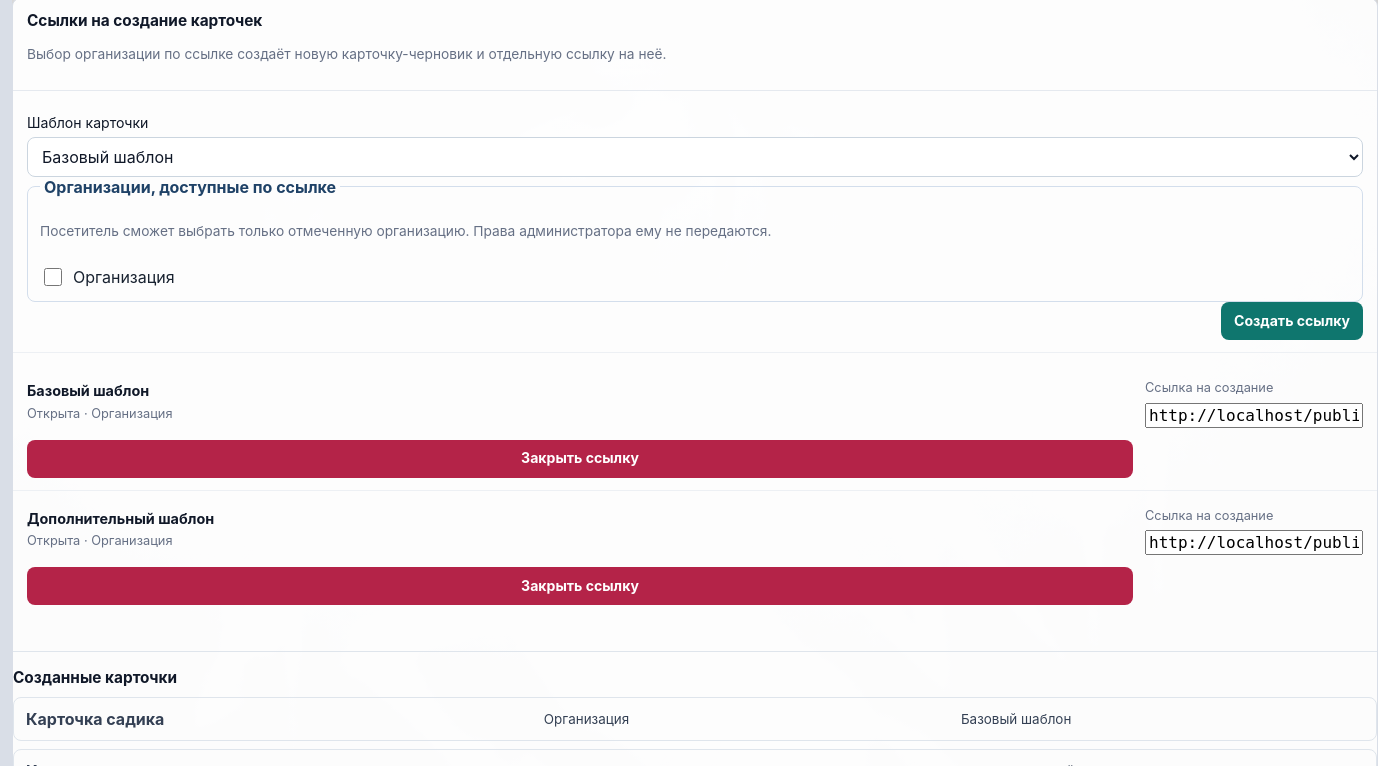
it: CardCreationLinksPanel › copies a creation URL when its text is clicked
This screenshot has width=1378, height=766.
Click the 1st field labelled "Ссылка на создание": coordinates (1254, 415) [1145, 403, 1363, 428]
(page scrolled)
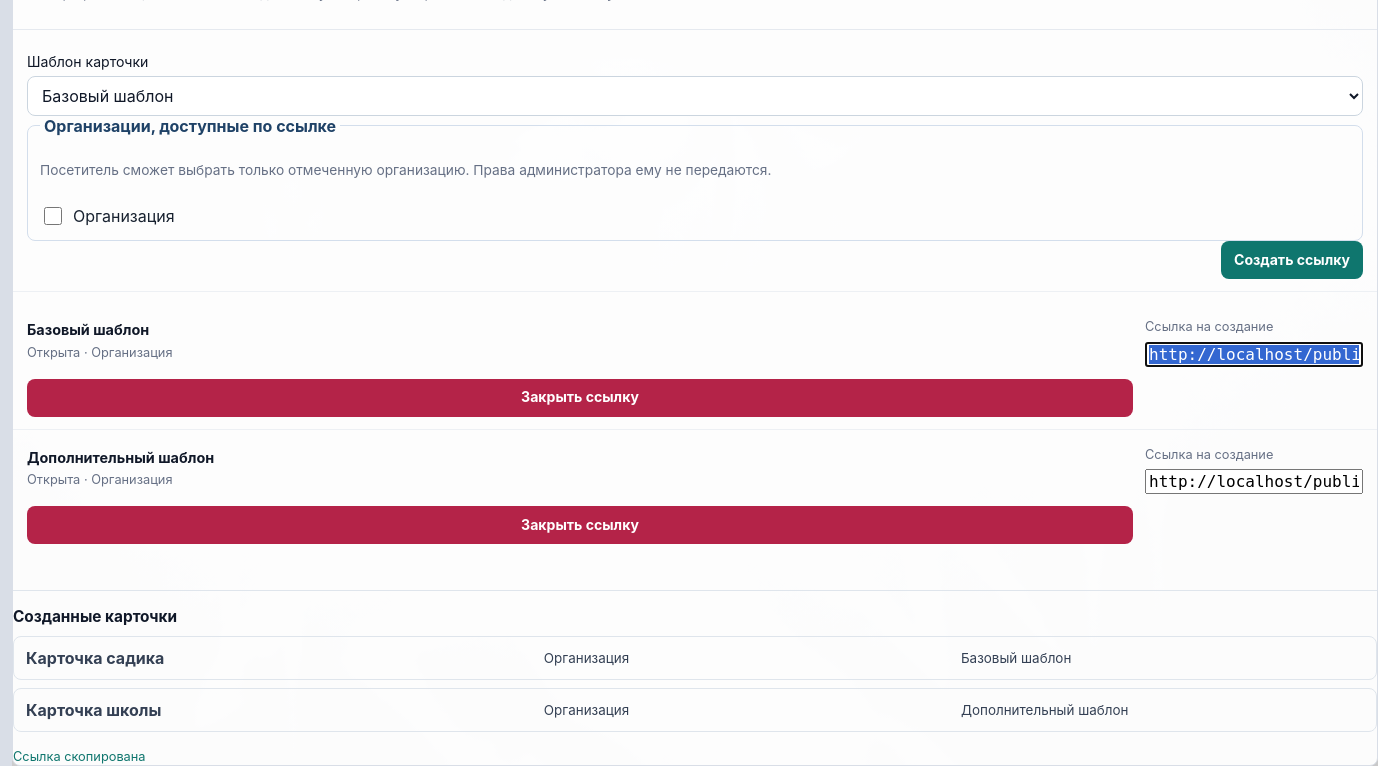
Expected: the message reads "Ссылка скопирована", [13, 749, 146, 764]
